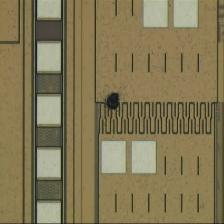PARTICLE: (105, 92, 125, 112)
